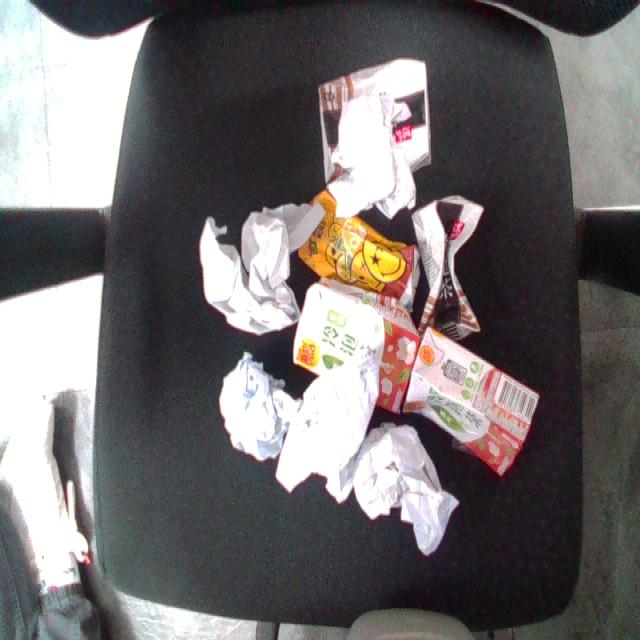juicebox: (357, 305, 562, 493), (268, 170, 463, 341), (266, 260, 452, 431), (293, 38, 458, 187), (399, 179, 500, 354)
paper: (300, 385, 501, 579), (255, 312, 412, 534), (181, 329, 330, 492), (192, 182, 327, 354)
